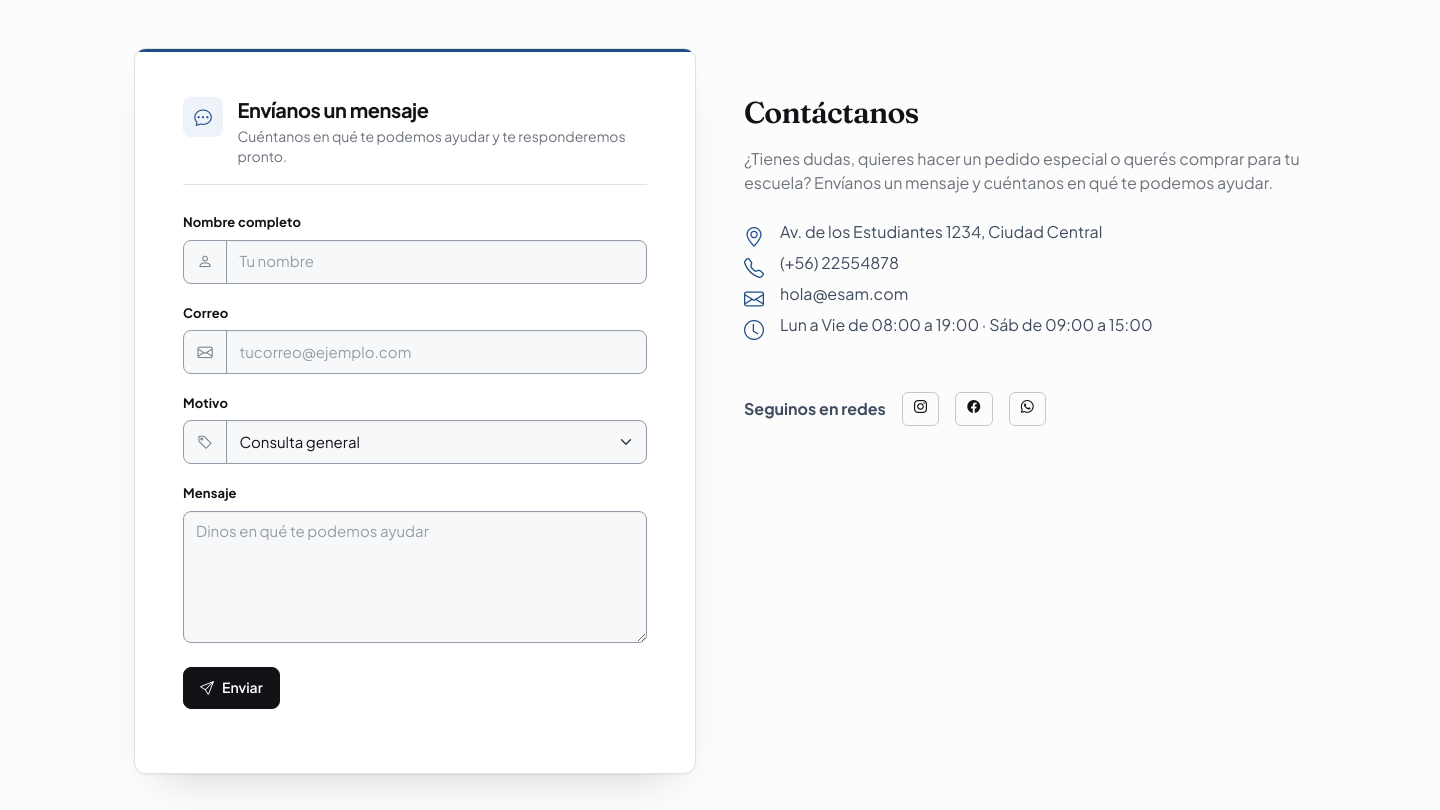
Scenario: Contact › Cierra la alerta de éxito
The image size is (1440, 810).
Type "Ana" into the field labelled "Nombre completo".
click(437, 262); type("Ana")  # box [226,240,647,284]
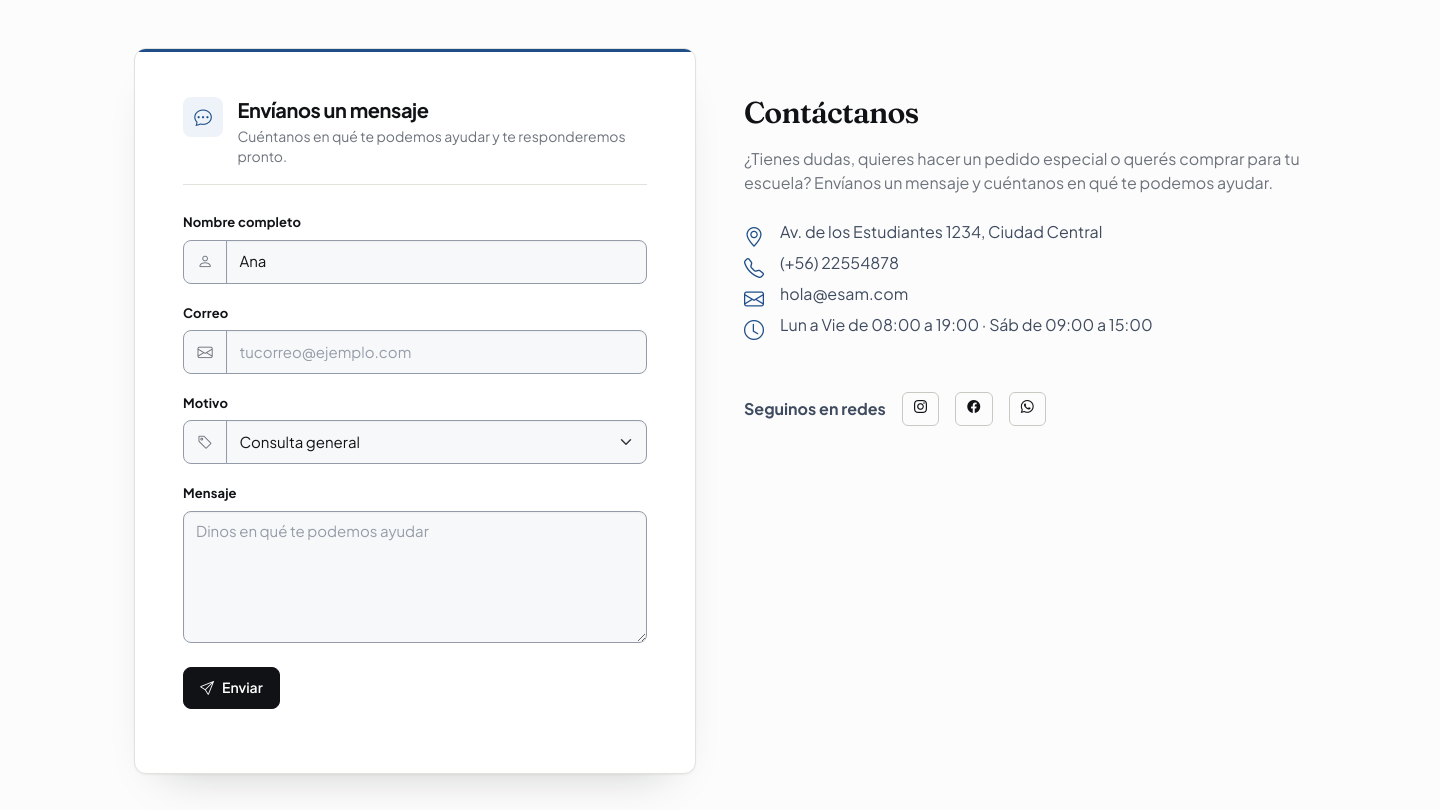
Type "ana@duoc.cl" into the field labelled "Correo".
click(437, 352); type("ana@duoc.cl")  # box [226,330,647,374]
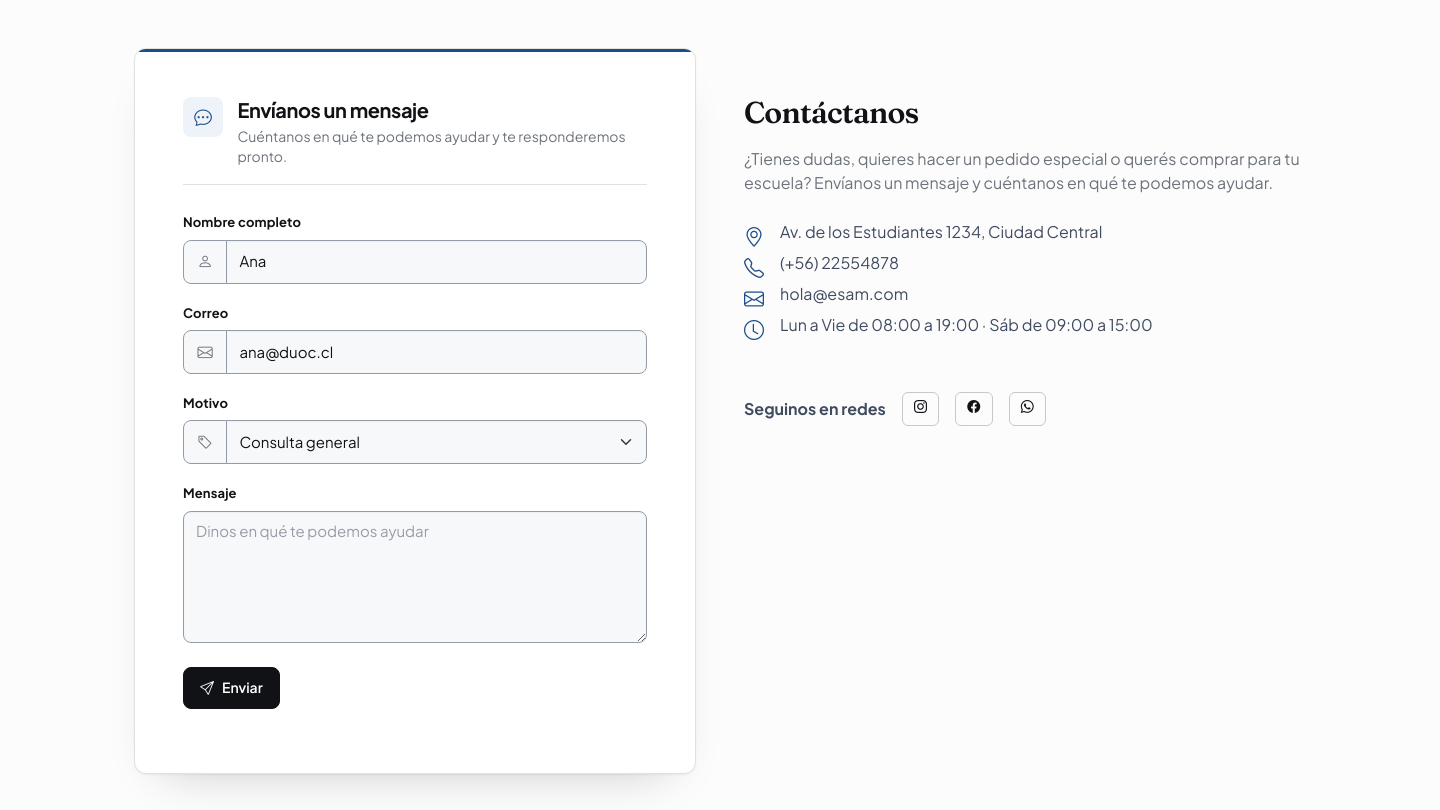
Type "Hola" into the text box labelled "Mensaje".
click(415, 577); type("Hola")  # box [183,511,647,643]
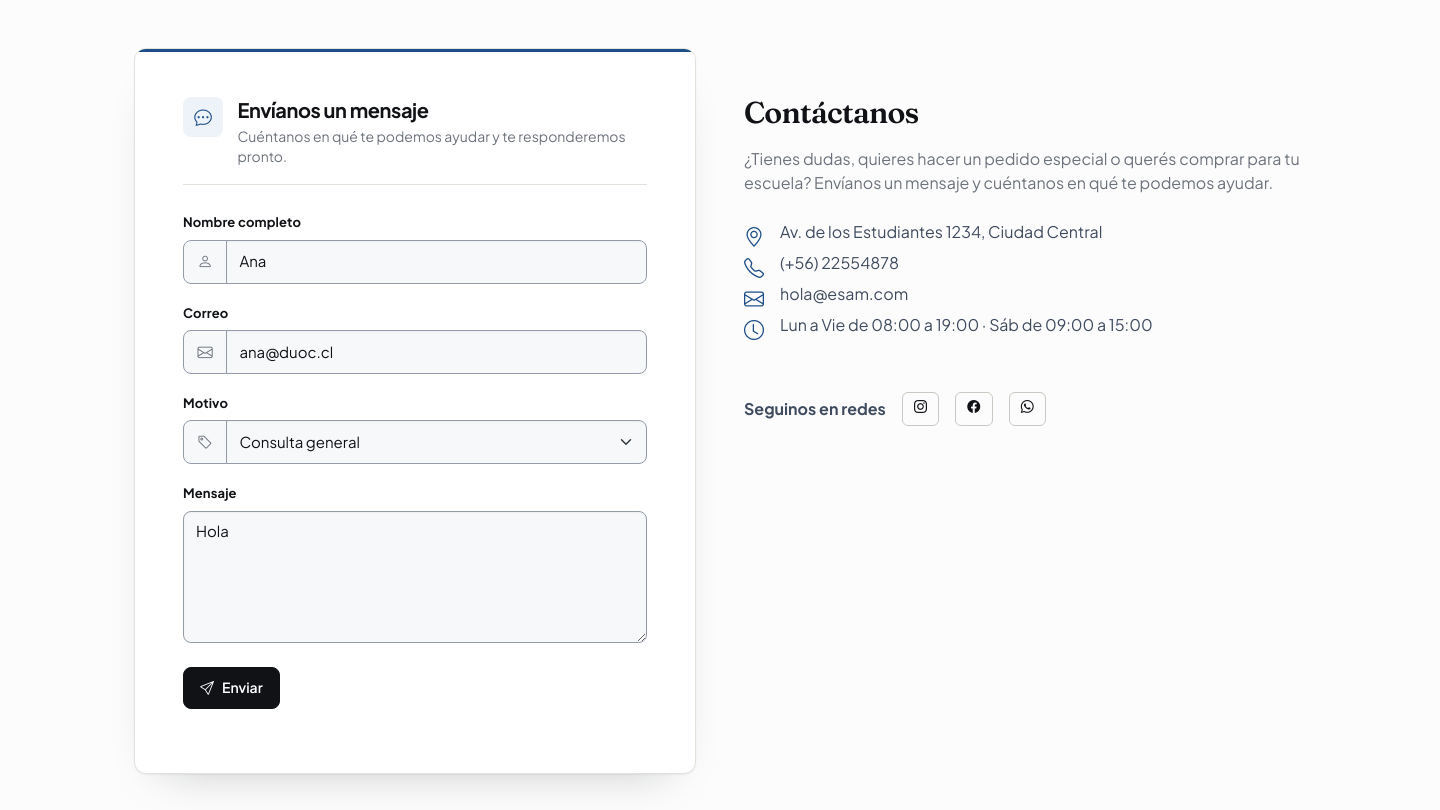
Click the button "Enviar".
click(231, 688)  # box [183,667,280,709]
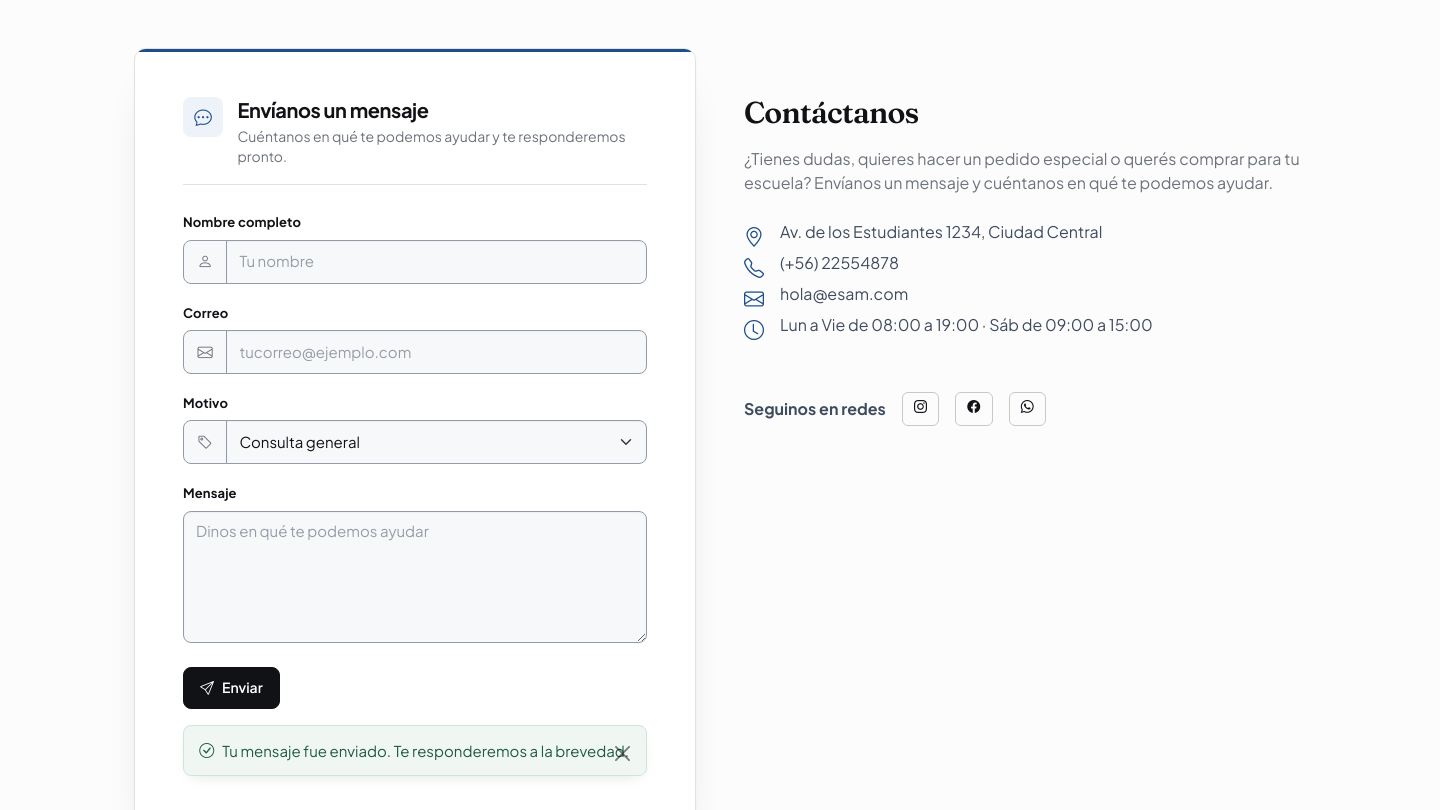
Click the button named "Cerrar".
click(622, 753)  # box [599,726,646,781]
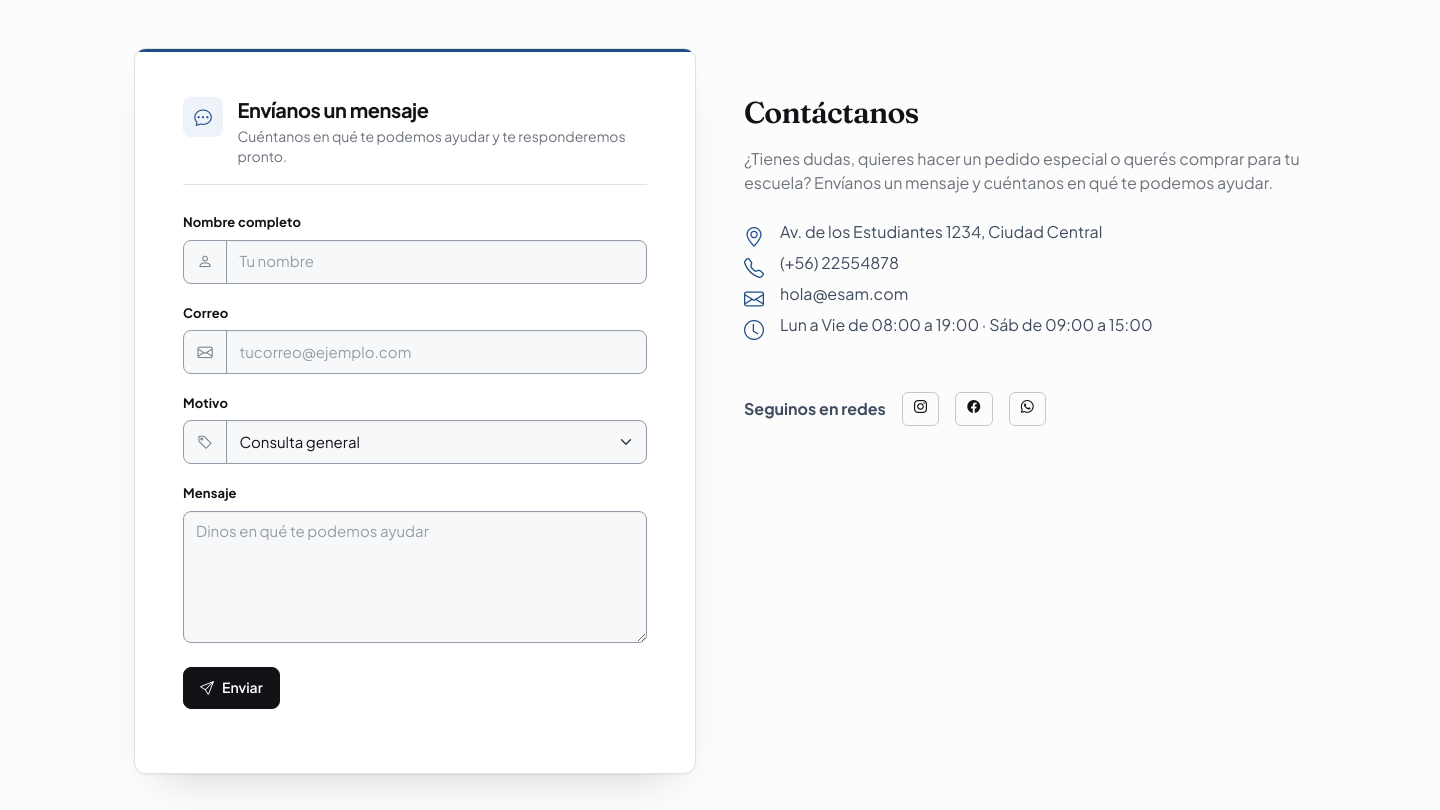
Now the message "Tu mensaje fue enviado. Te responderemos a la brevedad." is gone
